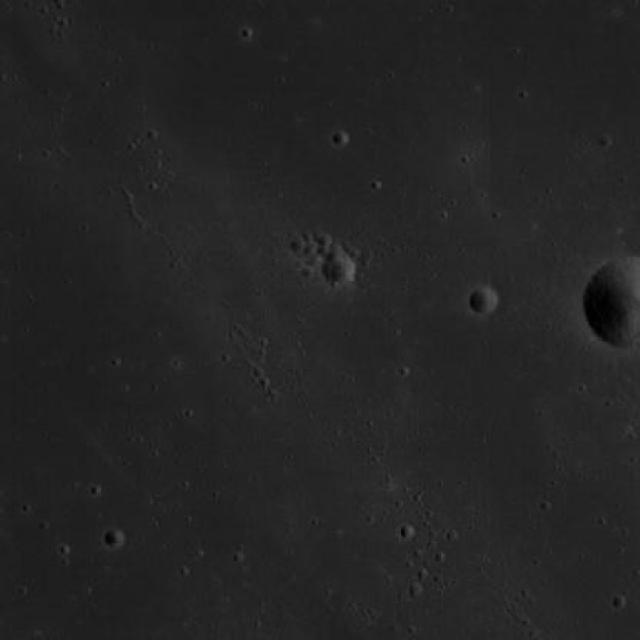crater: (323, 255, 357, 288), (472, 287, 499, 313), (106, 528, 126, 547), (306, 253, 323, 270), (334, 131, 351, 147), (289, 238, 306, 254)
